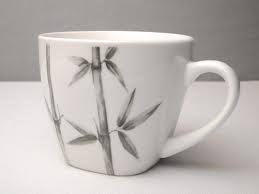cup: (34, 27, 245, 179)
